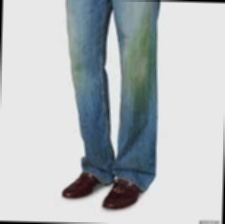earth: (129, 36, 153, 88)
